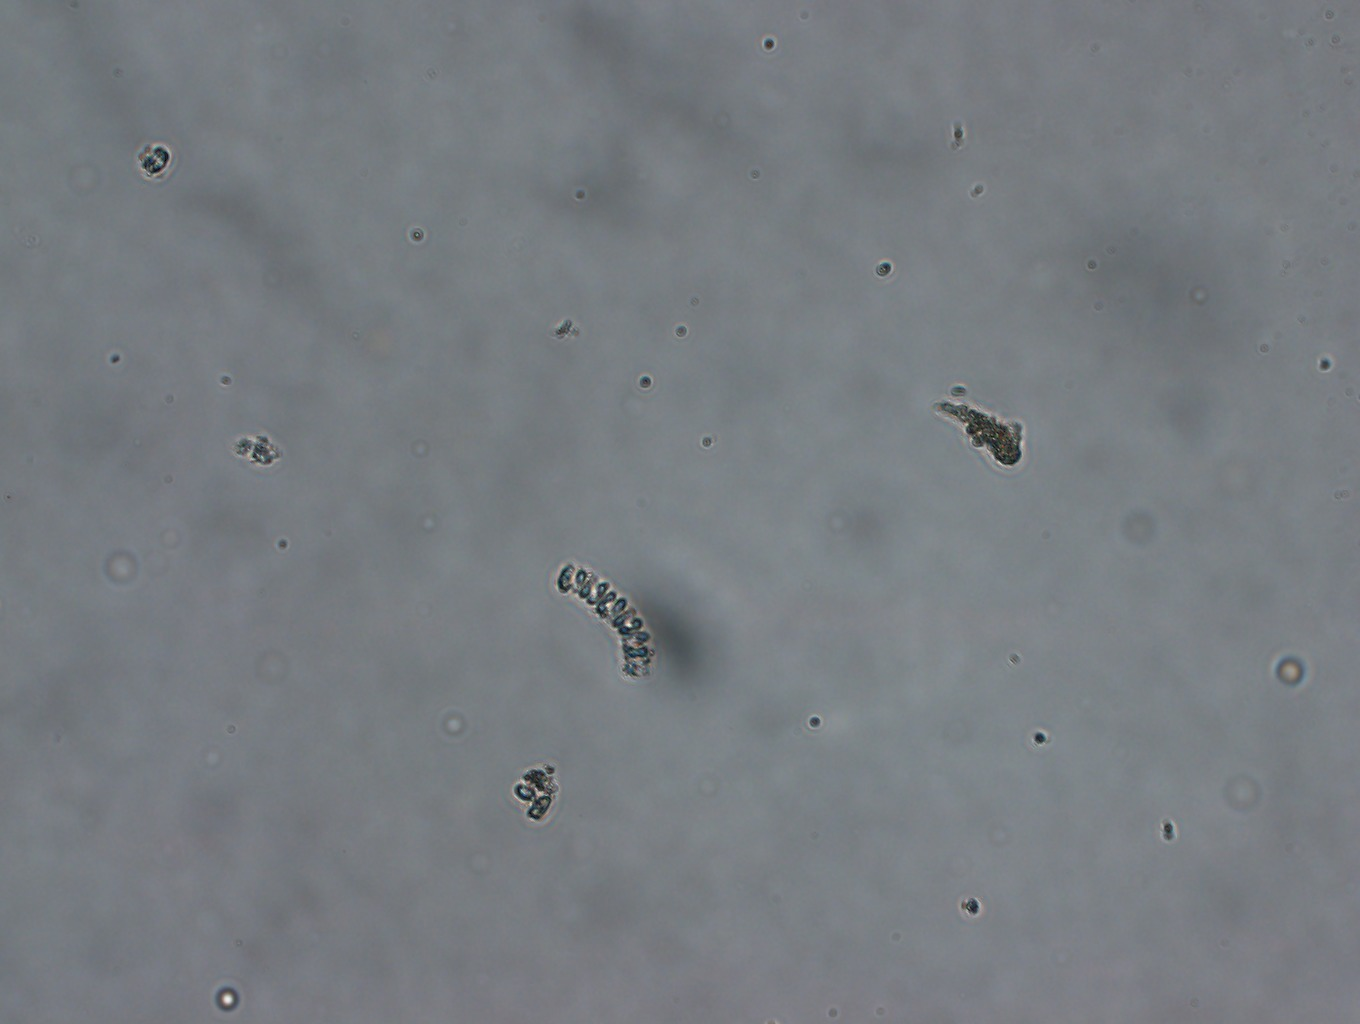skeletonema: (558, 560, 656, 683)
